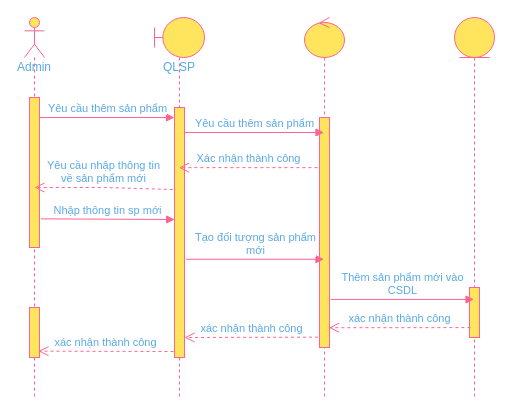
This 512x415 diagram has some shape labels left out. Each missing label, with the box of its shape:
CSDL: (454, 16, 494, 398)
ĐK QLSP: (304, 16, 344, 398)
